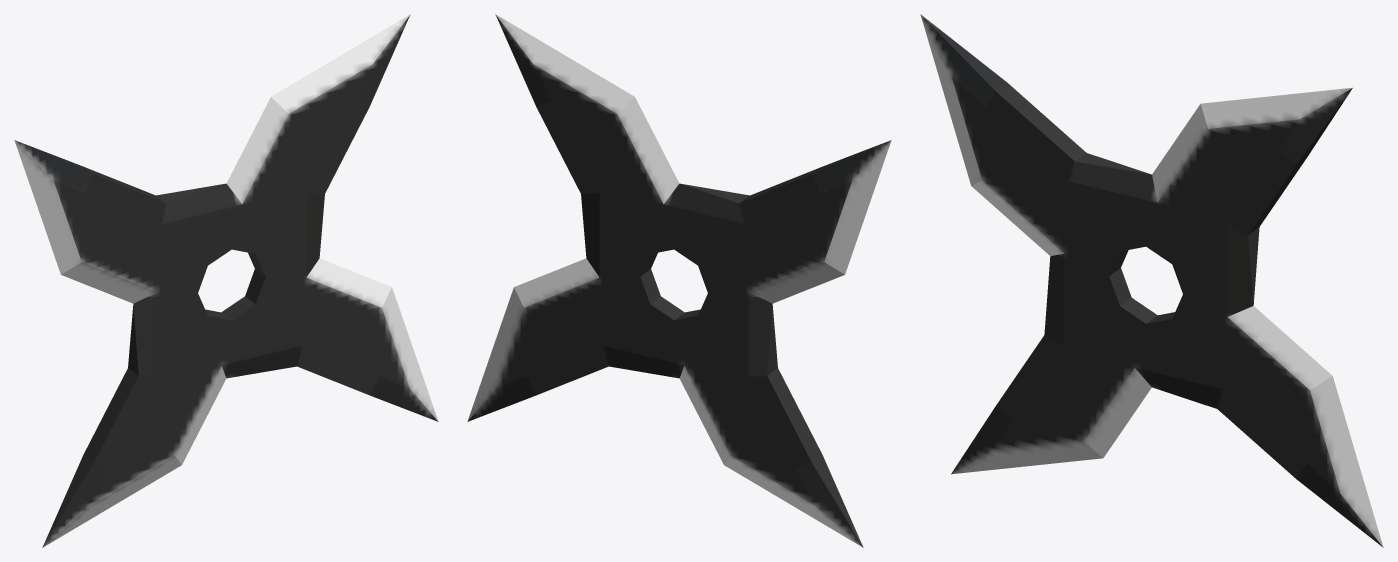
File: Shuriken.fbx
3 views of the same model, side by side, from view 1: azimuth 30°, elevation 25°; view 2: azimuth 150°, elevation 25°; view 3: azimuth 330°, elevation 25° (orthographic). The views are drawn at different scales.
Parts seen in each view (by area): view 1: Shuriken; view 2: Shuriken; view 3: Shuriken.
Boxes of the visible parts, bbox=[...] form: Shuriken: bbox=[14, 14, 438, 547]; Shuriken: bbox=[467, 14, 891, 547]; Shuriken: bbox=[920, 14, 1383, 547].
Bounding box in the file's own units: 3.21 × 3.21 × 0.1408.
Materials: 1 (1 with a texture image).
